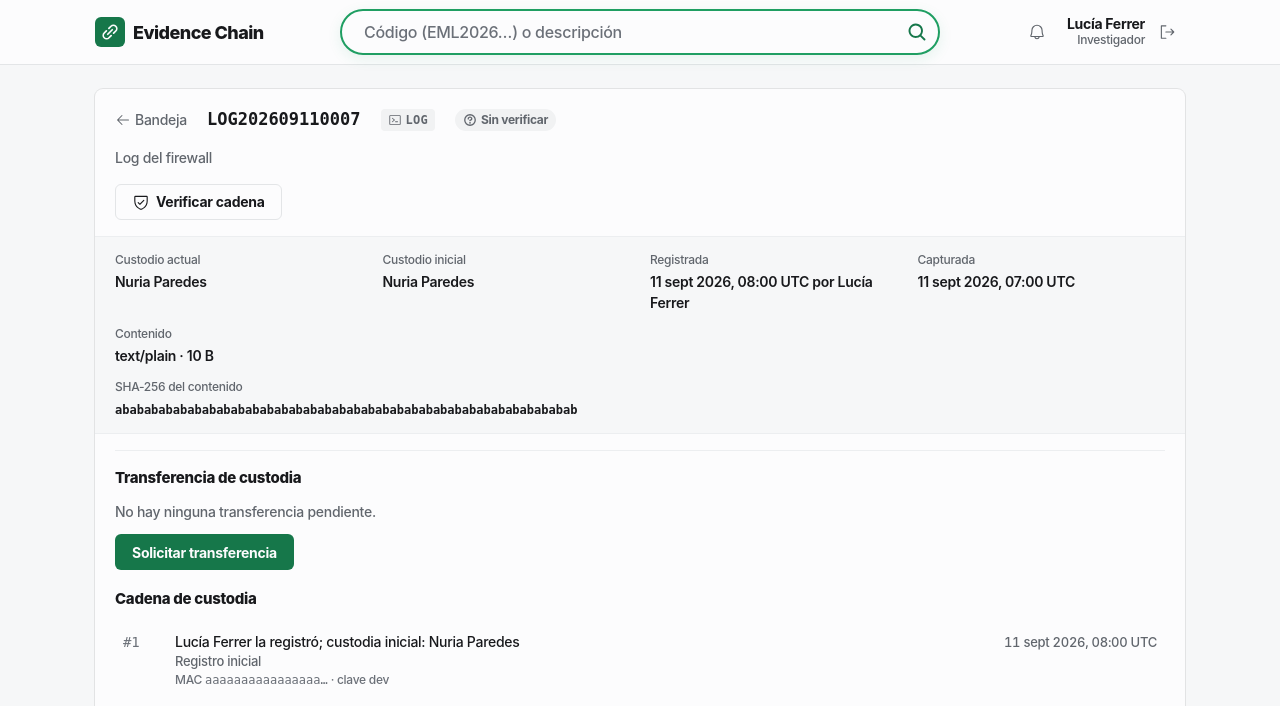
it: a request that got no answer › checks the evidence again and retries with the same Idempotency-Key
This screenshot has width=1280, height=706.
Expected: the heading "LOG202609110007" is shown, [207,107,360,132]
Click the button "Solicitar transferencia" at (204, 552), box [115,534,294,570]
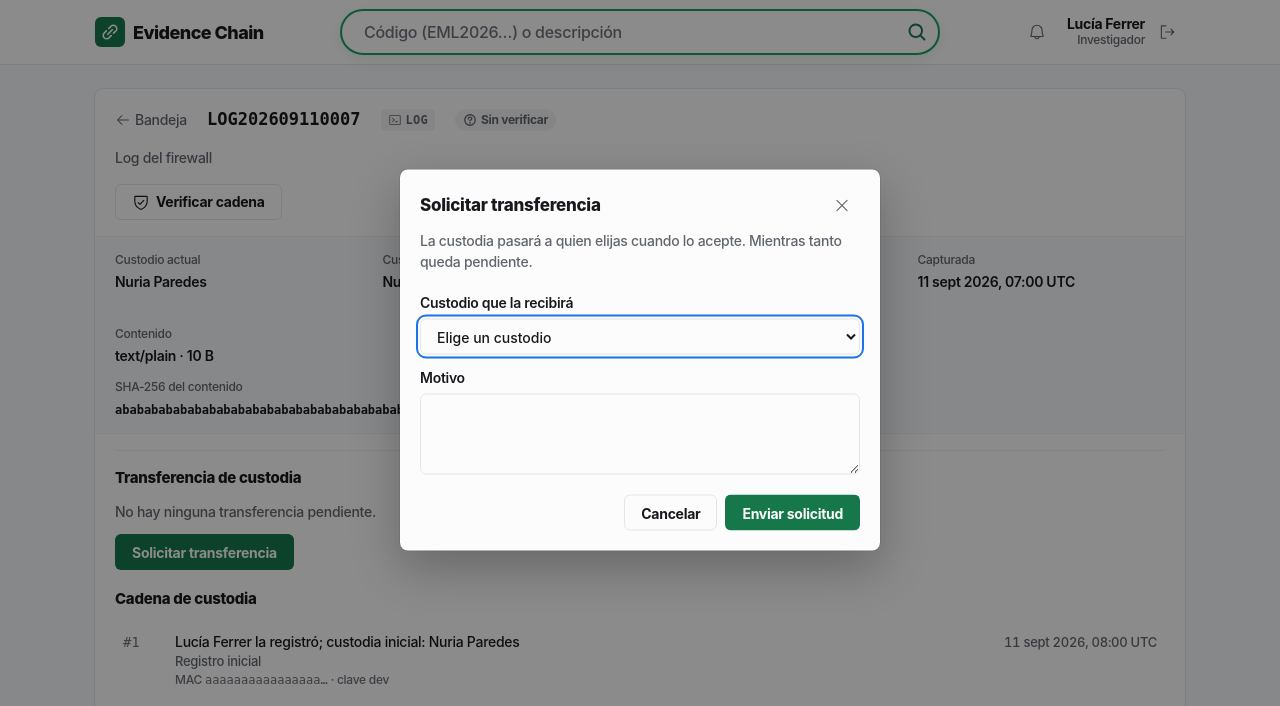
Select "Diego Salas" in the dropdown labelled "Custodio que la recibirá" at (640, 336), box [420,318,860,354]
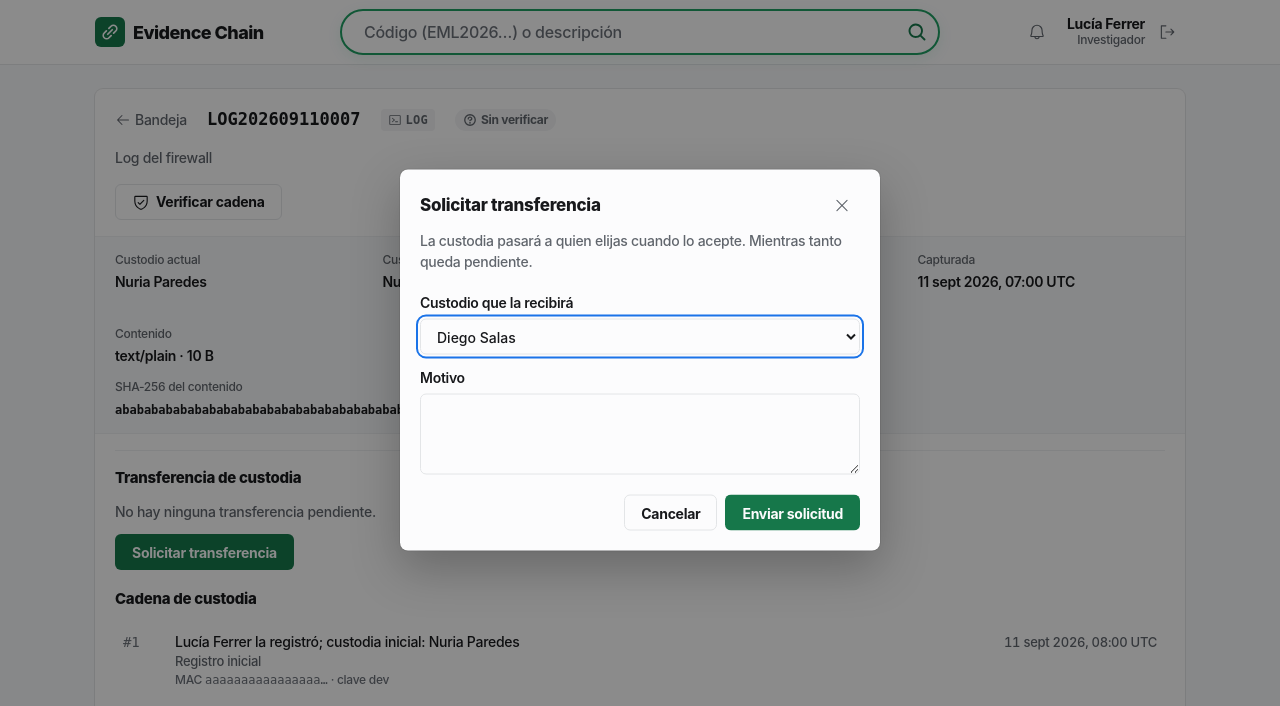
Type "Peritaje externo" into the text box labelled "Motivo" at (640, 434), box [420,394,860,474]
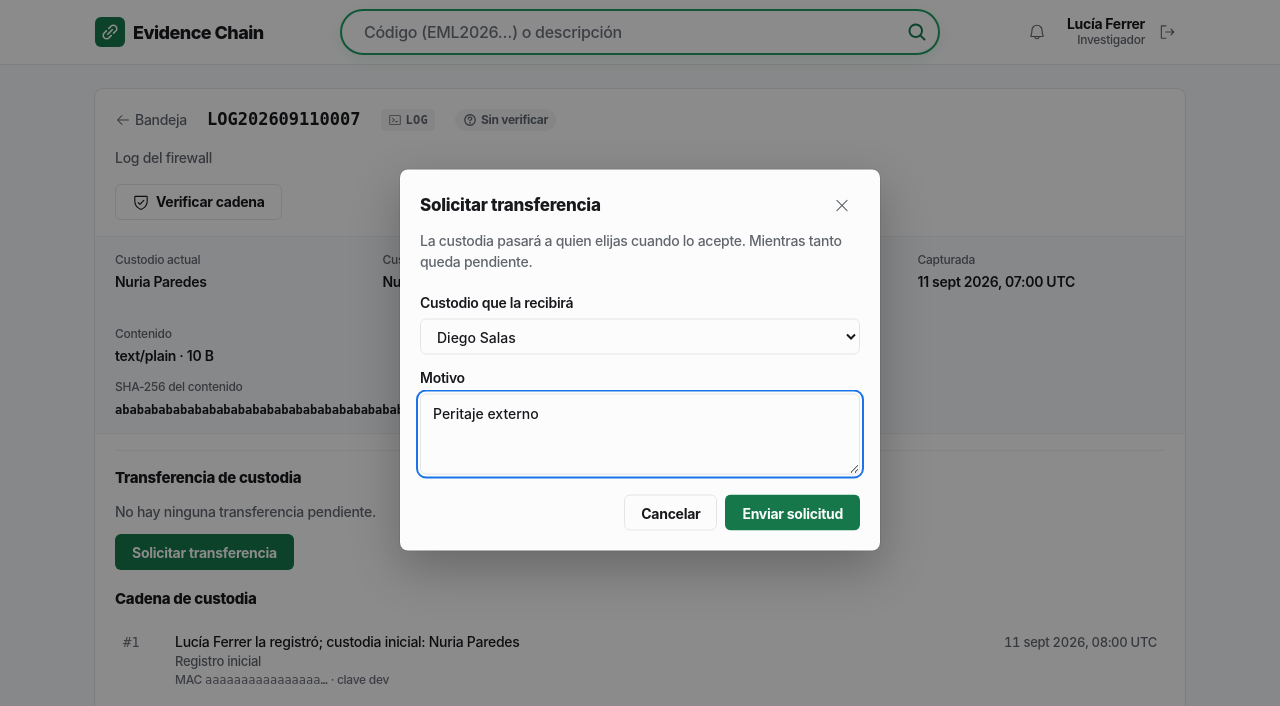
Click the button "Enviar solicitud" at (793, 512), box [725,494,860,530]
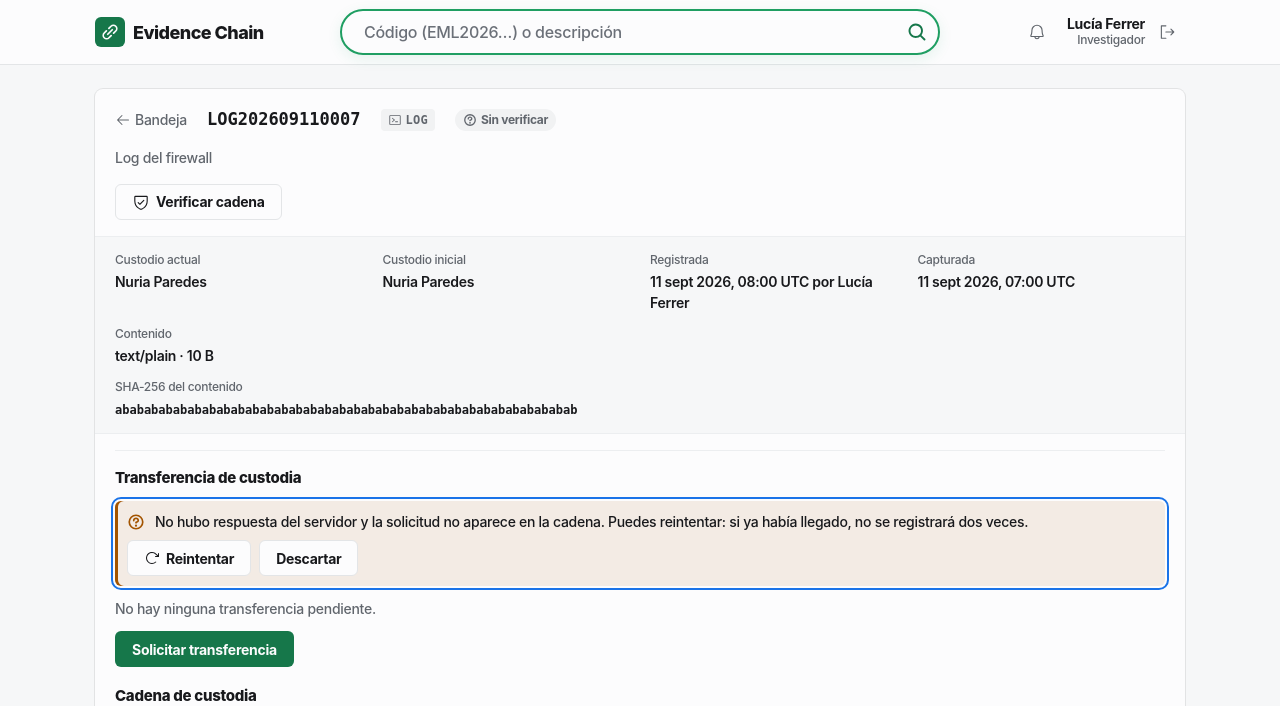
Expected: the message shows "No hubo respuesta del servidor y la solicitud no aparece en la cadena.", [155,513,1028,530]
Click the button "Reintentar" at (189, 558), box [127,540,251,576]
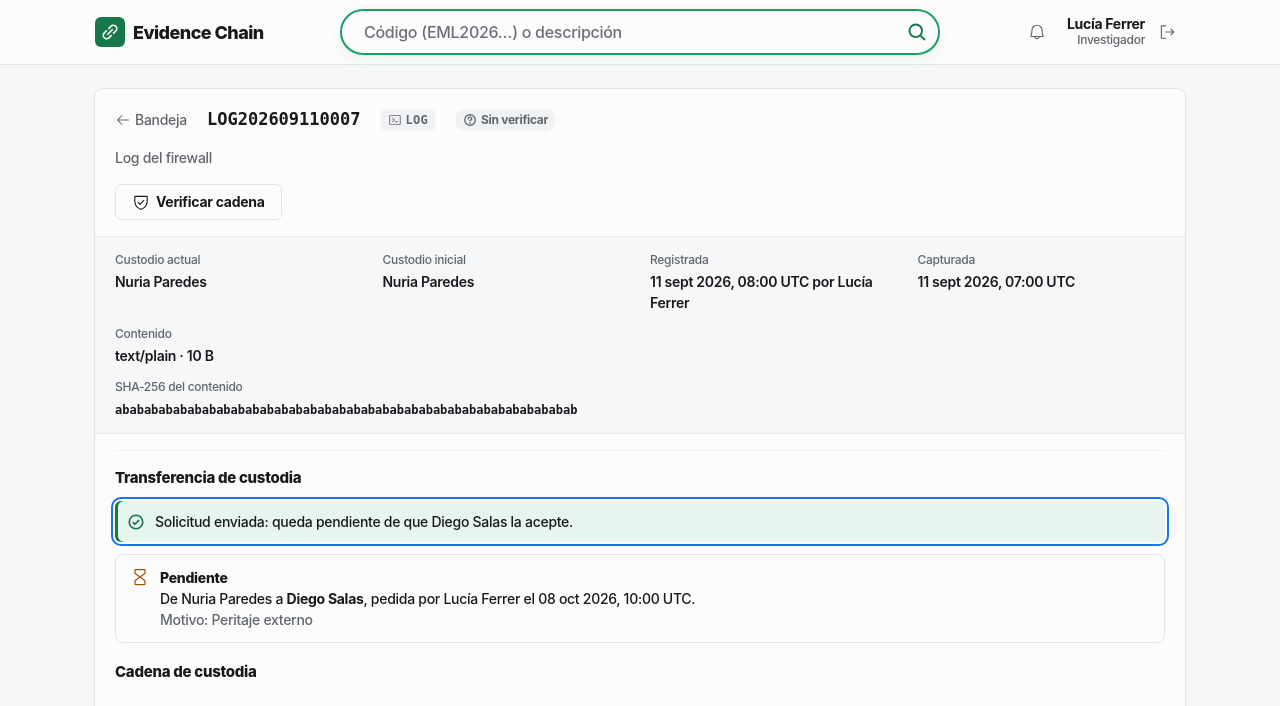
Expected: the text "Pendiente" is shown, [160,569,228,586]
